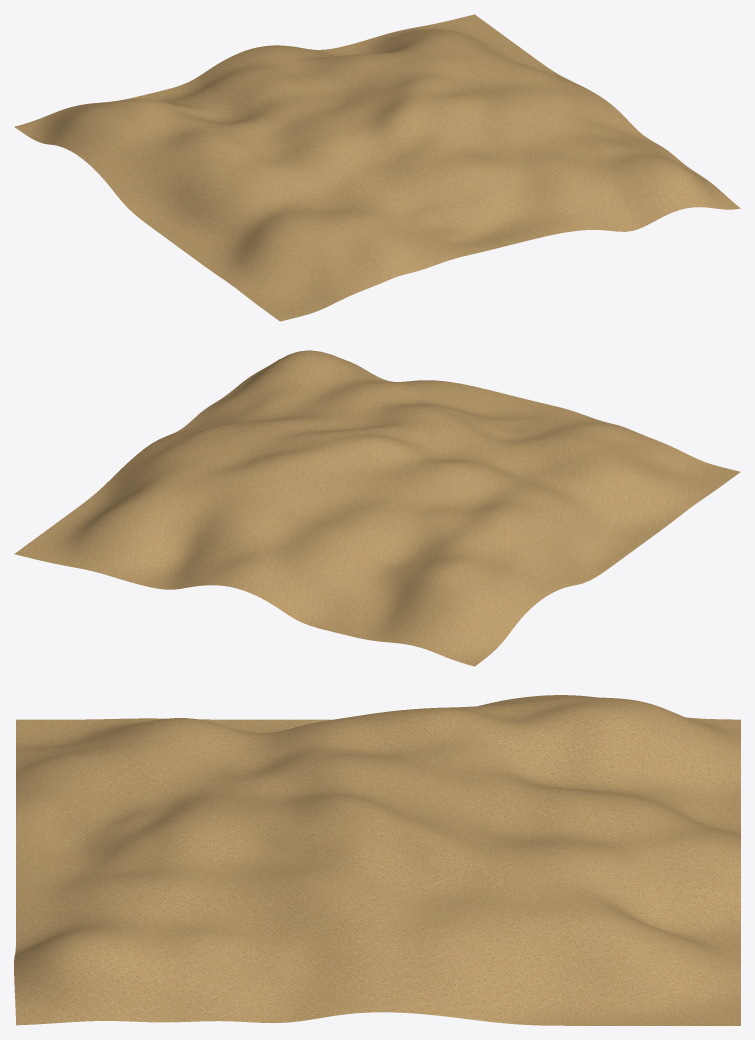
The model's file is island.dae.
3 views of the same model, one above another, from view 1: azimuth 30°, elevation 25°; view 2: azimuth 150°, elevation 25°; view 3: azimuth 270°, elevation 25° (orthographic). The views are drawn at different scales.
Visible parts, largest first — view 1: Plane; view 2: Plane; view 3: Plane.
Part boxes in pixels (bbox=[...]): Plane: bbox=[14, 14, 740, 321]; Plane: bbox=[14, 350, 740, 666]; Plane: bbox=[14, 695, 740, 1025].
Bounding box in the file's own units: 20.19 × 20.2 × 2.55.
